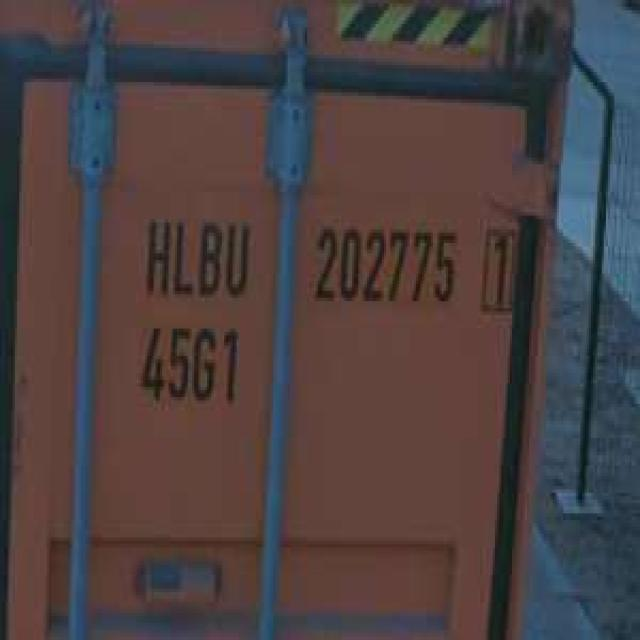dv: (477, 217, 523, 325)
owner: (139, 205, 254, 305)
serial: (309, 212, 459, 315)
size: (132, 315, 245, 414)
